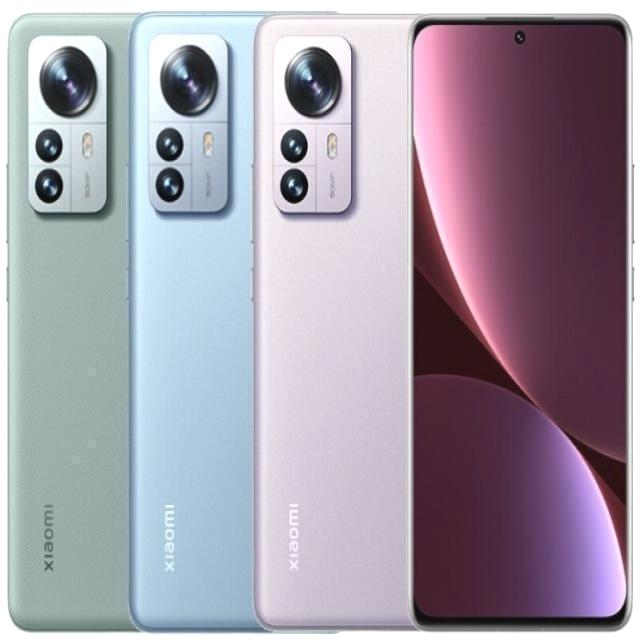lens: (25, 37, 113, 211), (149, 37, 232, 213), (275, 36, 348, 214)
phone: (405, 14, 635, 632), (254, 10, 411, 635), (2, 5, 131, 634), (130, 5, 256, 634)
